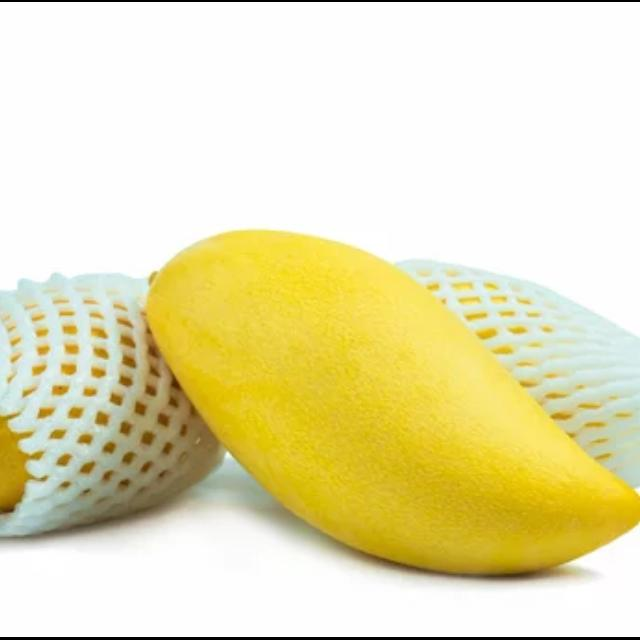mango: (148, 227, 640, 575)
